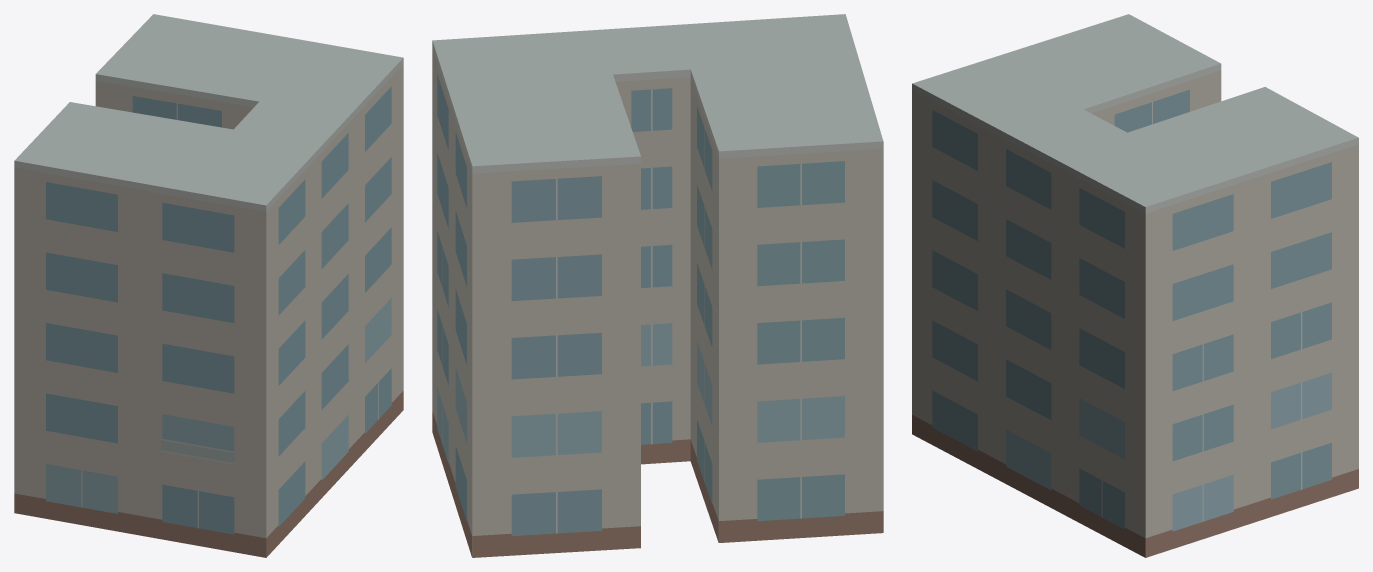
File: survey-upis-32628919.glb
The picture shows the model from 3 angles, left to right: view 1: azimuth 30°, elevation 25°; view 2: azimuth 150°, elevation 25°; view 3: azimuth 270°, elevation 25°; orthographic projection. The views are drawn at different scales.
Visible parts, largest first — view 1: survey-upis-32628919.tmp; view 2: survey-upis-32628919.tmp; view 3: survey-upis-32628919.tmp.
Boxes of the visible parts, x1=… form: survey-upis-32628919.tmp: x1=14, y1=14, x2=403, y2=557; survey-upis-32628919.tmp: x1=432, y1=14, x2=883, y2=557; survey-upis-32628919.tmp: x1=912, y1=14, x2=1358, y2=557.
Size of the model in its own units: 15.42 by 13.05 by 15.07.
